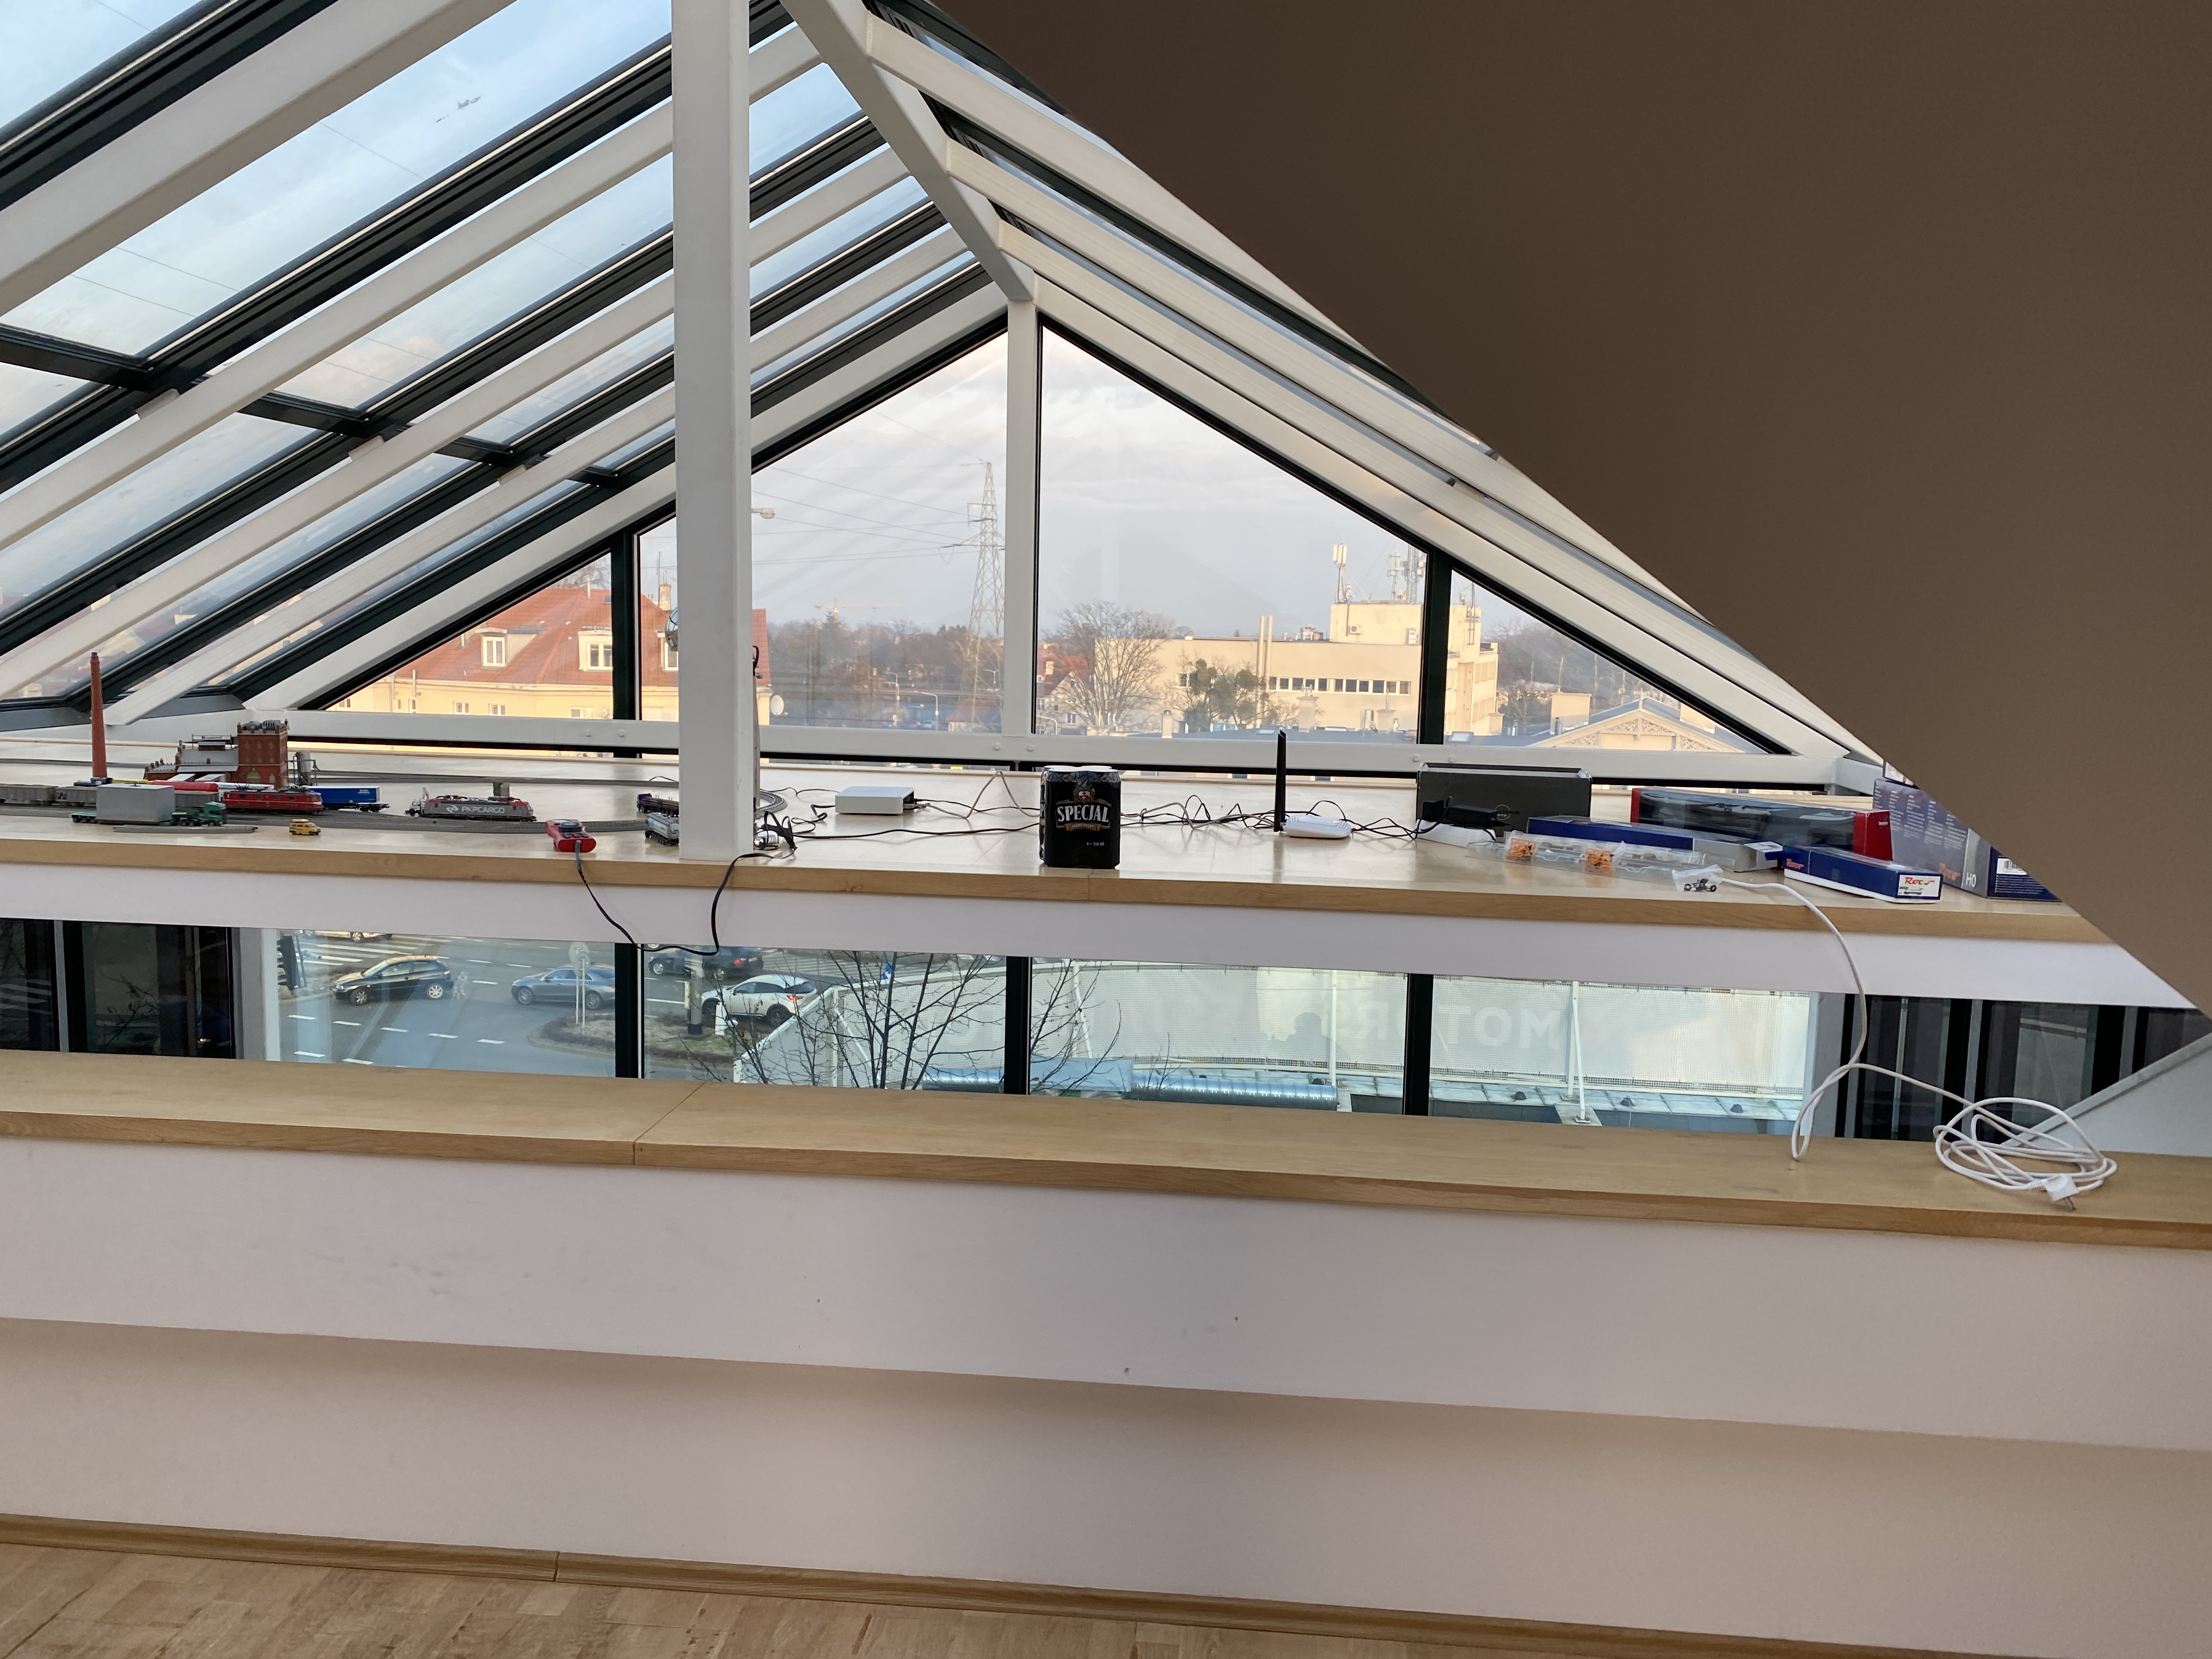specjal: (1036, 763, 1125, 870)
